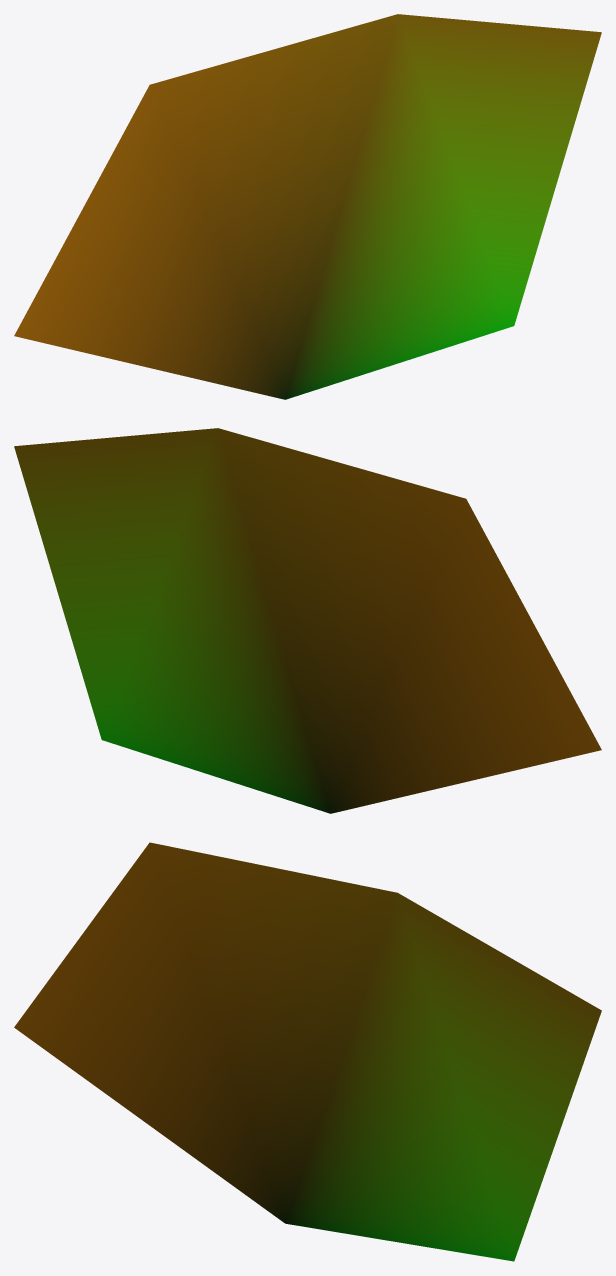
Rendered from Var3_LOD3.fbx.
3 views of the same model, one above another, from view 1: azimuth 30°, elevation 25°; view 2: azimuth 150°, elevation 25°; view 3: azimuth 330°, elevation 25° (orthographic).
Parts seen in each view (by area): view 1: _480e_Var3_LOD3; view 2: _480e_Var3_LOD3; view 3: _480e_Var3_LOD3.
Boxes of the visible parts, left/top/right/bottom form: _480e_Var3_LOD3: left=14, top=14, right=601, bottom=399; _480e_Var3_LOD3: left=14, top=428, right=601, bottom=813; _480e_Var3_LOD3: left=14, top=842, right=601, bottom=1261.
Bounding box in the file's own units: 47.72 × 27.79 × 1.45e-05.
